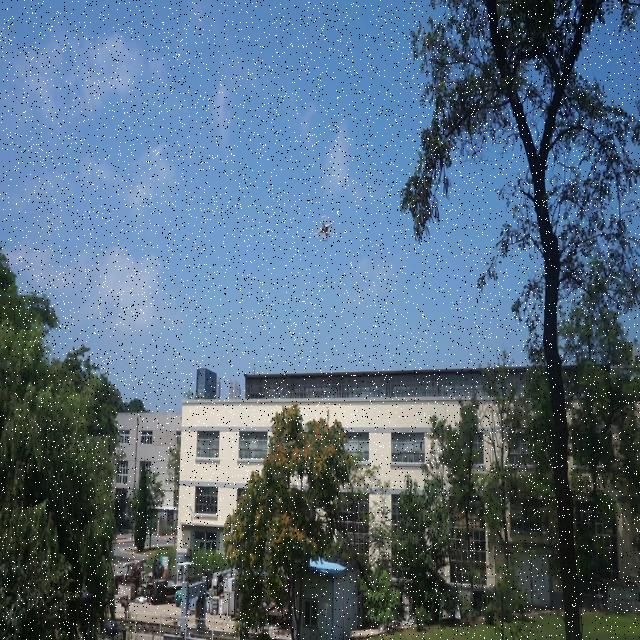UAV: (312, 215, 332, 241)
